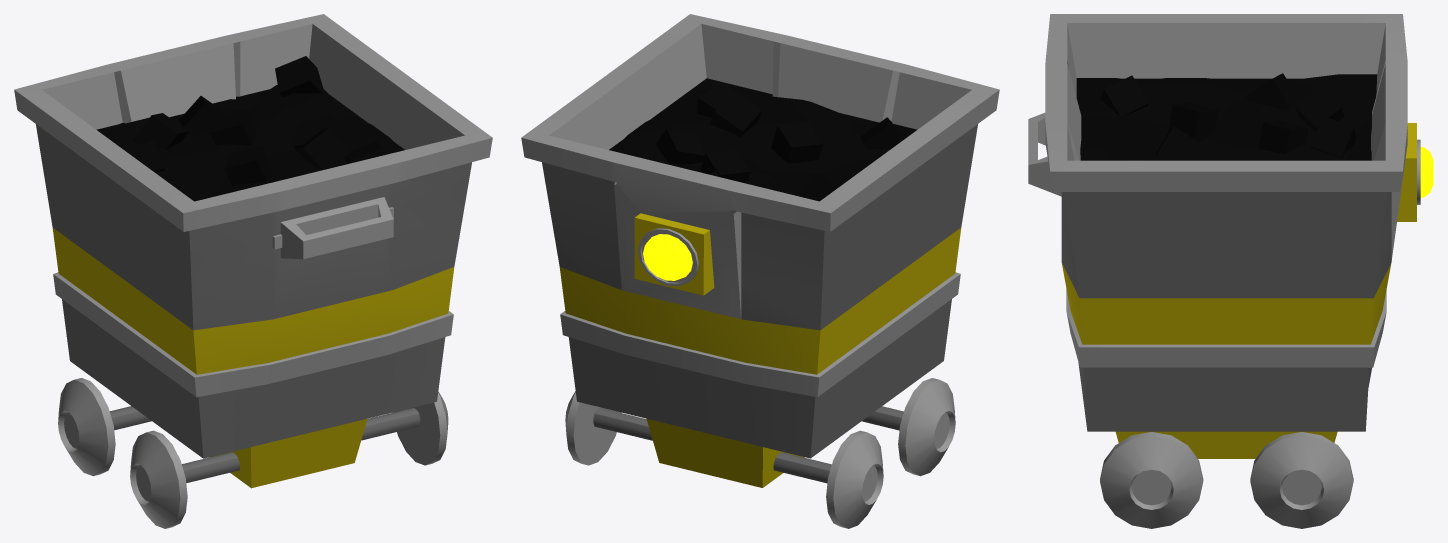
Rendered from Vagon.fbx.
3 renders of one model, left to right at view 1: azimuth 30°, elevation 25°; view 2: azimuth 150°, elevation 25°; view 3: azimuth 270°, elevation 25°, orthographic. The views are drawn at different scales.
Visible parts, largest first — view 1: Vagon; view 2: Vagon; view 3: Vagon.
Boxes of the visible parts, x1,y1,x2,y2 form: Vagon: [14, 14, 492, 528]; Vagon: [521, 14, 999, 528]; Vagon: [1028, 14, 1433, 528].
Size of the model in its own units: 145 by 158 by 157.
